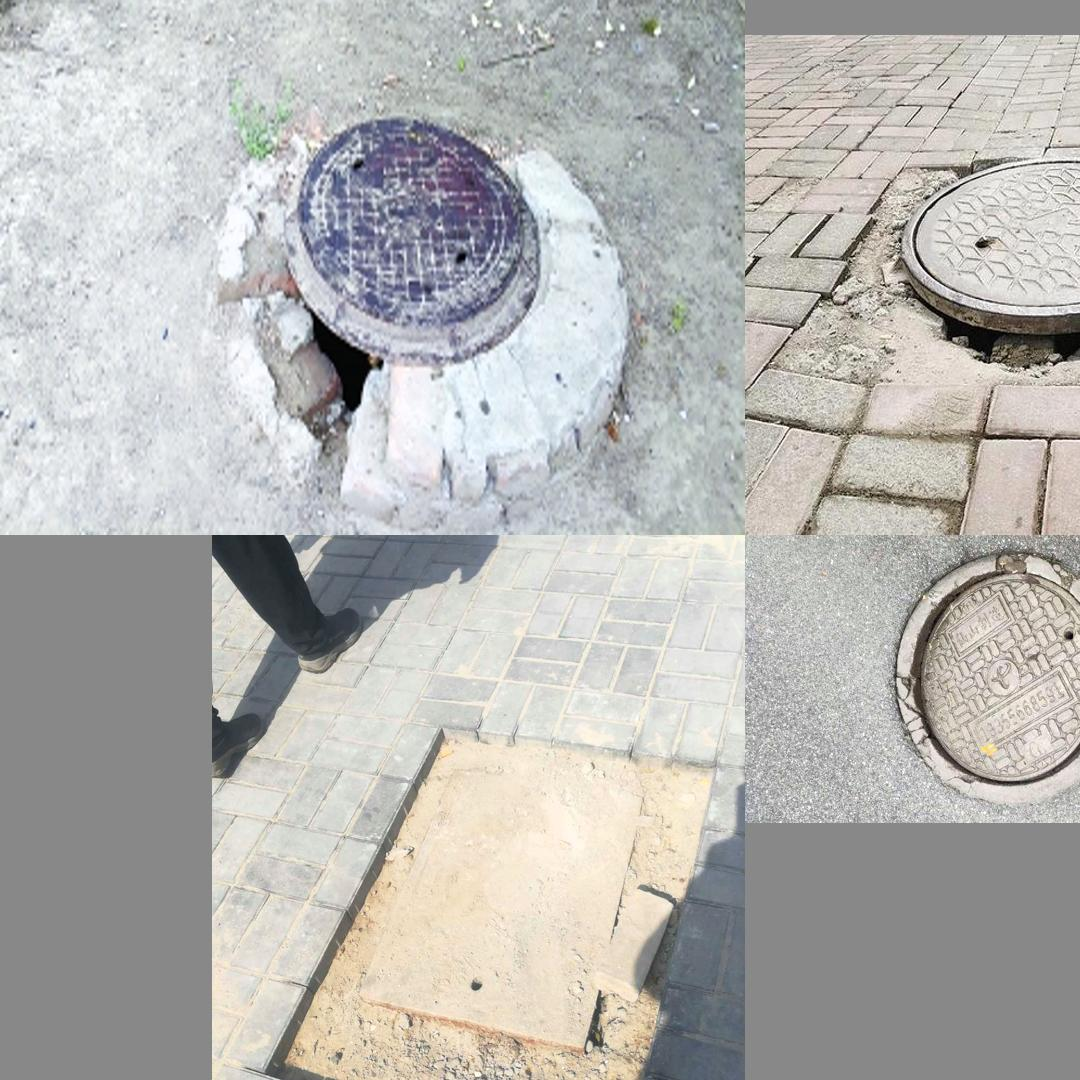circle: (195, 102, 640, 486), (271, 745, 715, 1080), (787, 143, 1080, 416), (863, 551, 1080, 802)
